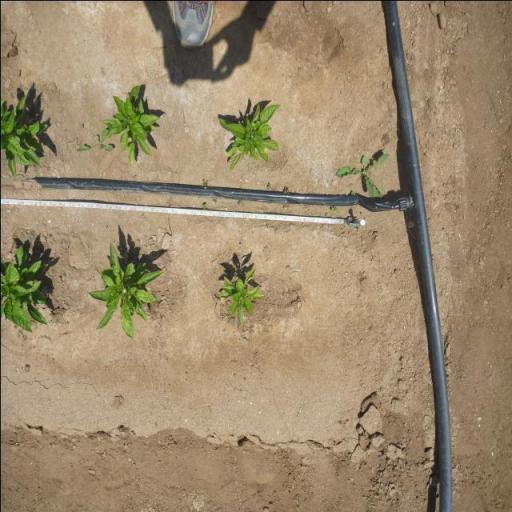plant: (87, 236, 165, 342), (102, 76, 160, 168), (216, 98, 286, 174), (0, 244, 53, 334), (0, 87, 50, 182), (216, 261, 266, 327)
weed: (333, 148, 389, 198), (76, 128, 112, 153), (282, 186, 291, 194), (236, 198, 244, 206), (202, 177, 208, 187), (329, 205, 337, 212), (281, 202, 289, 209), (264, 182, 271, 190), (201, 201, 207, 210), (349, 190, 355, 196), (212, 197, 217, 204), (80, 123, 84, 130), (185, 82, 188, 88)
